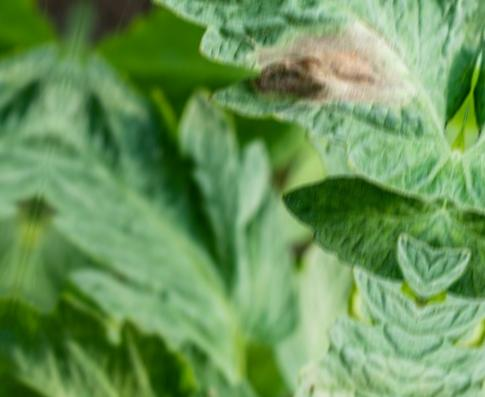Tomato leaf late blight: (58, 0, 485, 209), (266, 215, 436, 397)
